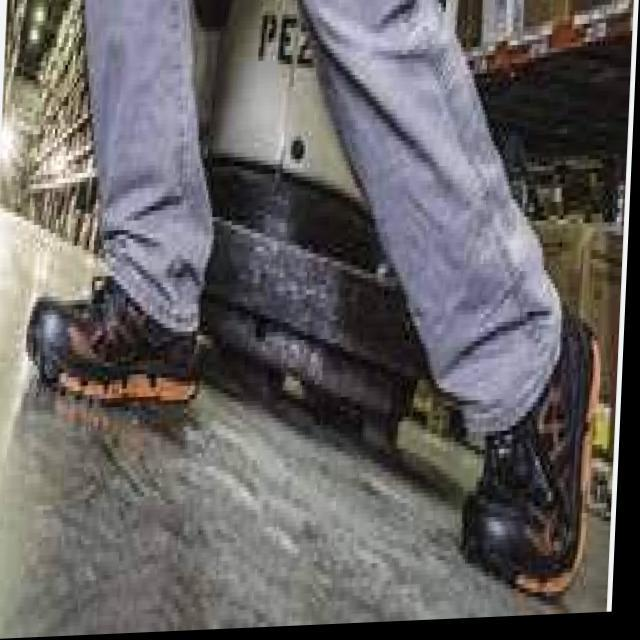shoes: (12, 225, 609, 628)
